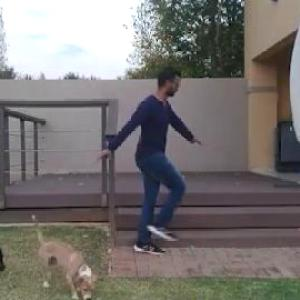land: (71, 61, 208, 259)
